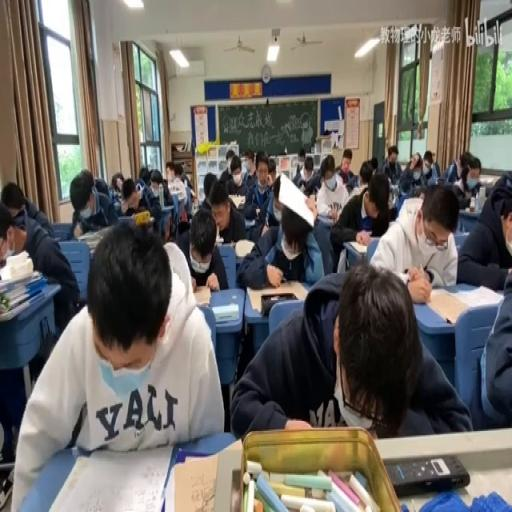calculator: (170, 452, 220, 512), (246, 280, 308, 313), (452, 283, 502, 311), (0, 266, 40, 292), (0, 294, 34, 322), (391, 266, 427, 289), (212, 300, 238, 322), (192, 283, 211, 304), (234, 238, 256, 256), (77, 228, 103, 243), (346, 239, 369, 252), (228, 193, 245, 209), (460, 206, 479, 216), (315, 215, 332, 226), (116, 213, 134, 222), (477, 175, 496, 183), (167, 186, 179, 196), (244, 216, 254, 225), (214, 236, 222, 243)
paper: (11, 222, 219, 512), (232, 263, 466, 440), (236, 179, 331, 289), (368, 181, 458, 287), (456, 170, 512, 288), (198, 178, 244, 250), (68, 168, 118, 234), (1, 180, 52, 238), (161, 238, 192, 298), (122, 176, 152, 222), (402, 149, 436, 189), (442, 151, 474, 186), (334, 149, 357, 188), (270, 174, 286, 228), (218, 148, 242, 182), (382, 144, 400, 182), (298, 154, 316, 189), (451, 186, 471, 209), (202, 170, 217, 200), (357, 161, 373, 189), (253, 151, 266, 185), (320, 155, 334, 181), (149, 170, 164, 194), (110, 170, 124, 194), (304, 195, 317, 219), (398, 174, 412, 196), (267, 156, 277, 186), (138, 165, 150, 185), (162, 214, 171, 240), (173, 164, 184, 184), (243, 148, 255, 163), (292, 160, 302, 178), (182, 174, 193, 190), (410, 184, 422, 196), (370, 155, 378, 172), (432, 159, 439, 178), (411, 154, 420, 168), (166, 169, 174, 181), (429, 155, 435, 164), (298, 147, 304, 155), (322, 128, 330, 134)
person: (386, 454, 470, 496)
